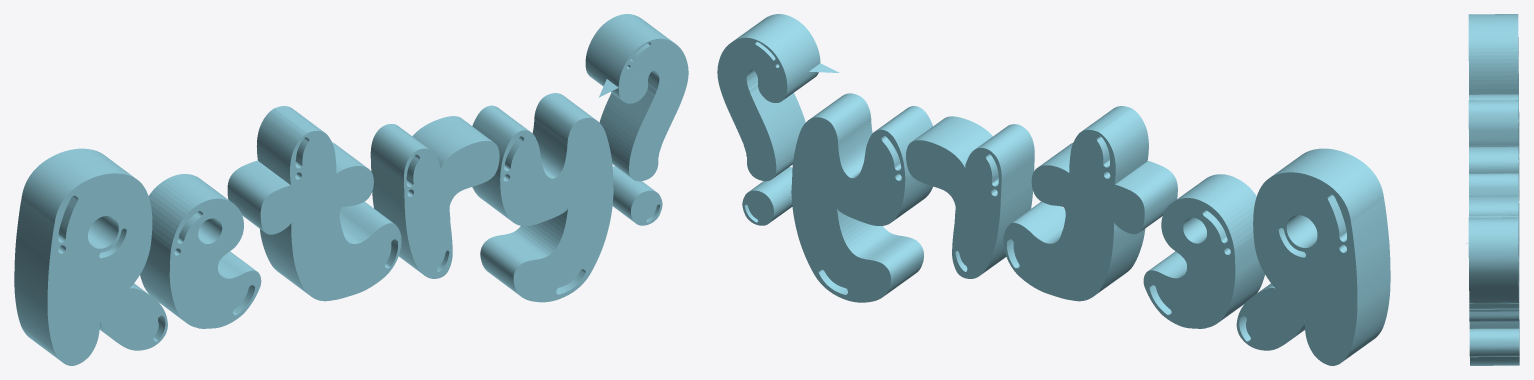
File: retry.fbx
The picture shows the model from 3 angles, left to right: view 1: azimuth 30°, elevation 25°; view 2: azimuth 150°, elevation 25°; view 3: azimuth 270°, elevation 25°; orthographic projection. The views are drawn at different scales.
Parts seen in each view (by area): view 1: 텍스트; view 2: 텍스트; view 3: 텍스트.
Boxes of the visible parts, x1=… form: 텍스트: x1=14, y1=14, x2=688, y2=365; 텍스트: x1=717, y1=14, x2=1390, y2=365; 텍스트: x1=1466, y1=14, x2=1519, y2=365.
Bounding box in the file's own units: 223 × 79.32 × 40.54.
